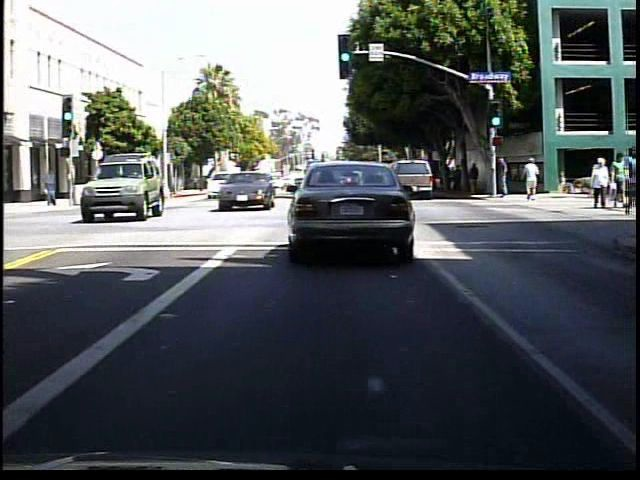person: (586, 158, 613, 212), (617, 148, 636, 216), (493, 154, 513, 205), (521, 157, 542, 205), (44, 165, 64, 209), (470, 162, 484, 194), (455, 164, 468, 196)
